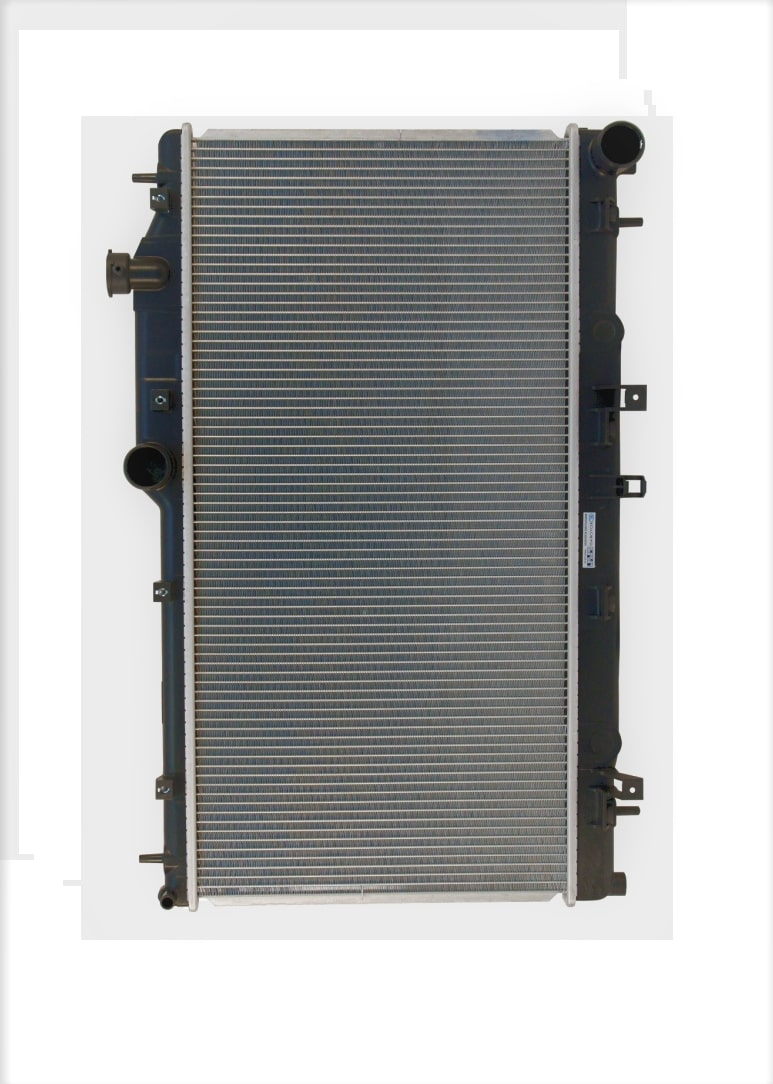c1: (131, 170, 179, 215)
c10: (590, 318, 617, 348)
c11: (585, 384, 649, 446)
c12: (586, 473, 648, 502)
c13: (585, 583, 617, 623)
c14: (586, 768, 645, 830)
c2: (106, 248, 177, 299)
c3: (148, 386, 172, 413)
c4: (122, 442, 179, 493)
c5: (149, 579, 177, 605)
c6: (154, 774, 178, 804)
c7: (136, 852, 186, 909)
c8: (589, 121, 646, 177)
c9: (588, 197, 644, 239)
